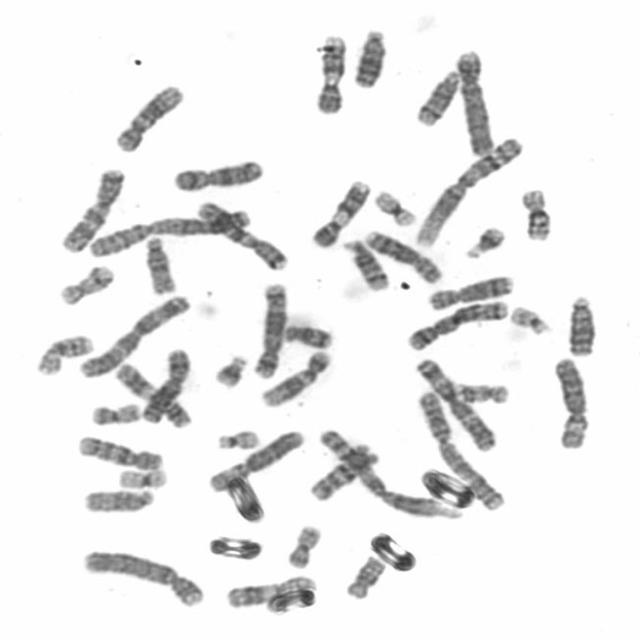A1: (312, 422, 468, 521), (409, 131, 526, 249)
A2: (411, 385, 507, 512), (82, 201, 254, 259)
A3: (72, 288, 194, 380), (410, 352, 500, 452)
B4: (76, 544, 207, 608), (450, 43, 498, 157)
B5: (401, 294, 510, 352), (247, 276, 290, 379)
C10: (302, 437, 380, 503), (71, 430, 165, 472)
C11: (108, 357, 193, 429), (220, 570, 319, 609)
C12: (108, 78, 186, 154), (254, 343, 334, 409)
C6: (202, 424, 306, 494), (546, 350, 592, 450)
C7: (189, 195, 291, 272), (54, 162, 128, 254)
C8: (359, 224, 445, 285), (422, 269, 516, 311)
C9: (304, 172, 373, 250), (308, 29, 349, 115)
D13: (348, 23, 390, 89), (562, 289, 598, 358)
D14: (409, 64, 462, 128), (337, 233, 391, 292)
D15: (138, 231, 180, 295), (78, 483, 157, 514)
E16: (29, 329, 95, 377), (514, 182, 554, 242)
E17: (53, 259, 116, 307), (448, 376, 511, 405)
E18: (340, 551, 388, 600), (277, 318, 335, 350)
F19: (368, 185, 418, 228), (111, 462, 170, 490)
F20: (280, 519, 324, 570), (85, 396, 143, 427)
G21: (458, 219, 508, 260), (207, 348, 250, 390)
G22: (504, 300, 554, 336), (210, 424, 261, 451)
X: (136, 342, 193, 426), (167, 154, 266, 193)
